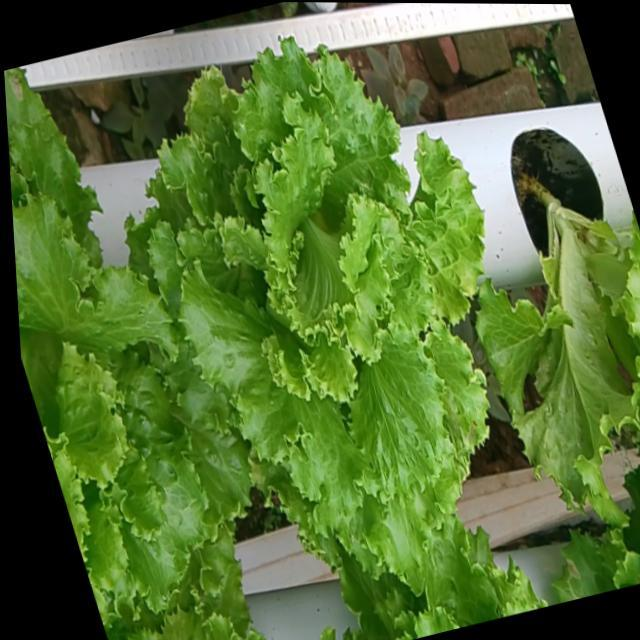Mature: (150, 20, 494, 562), (11, 166, 256, 596)
